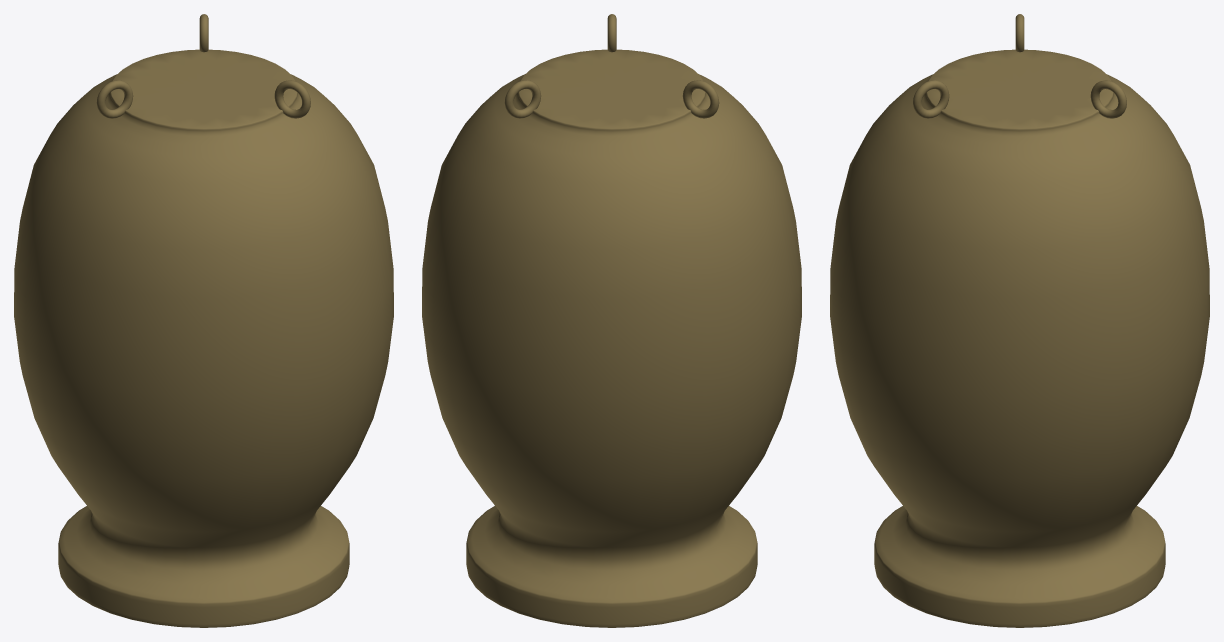
The model's file is 地动仪.fbx.
The picture shows the model from 3 angles, left to right: view 1: azimuth 30°, elevation 25°; view 2: azimuth 150°, elevation 25°; view 3: azimuth 270°, elevation 25°; orthographic projection.
Parts seen in each view (by area): view 1: Cylinder019, Torus002, Torus001; view 2: Cylinder019, Torus001, Torus003; view 3: Cylinder019, Torus003, Torus002.
Boxes of the visible parts, left/top/right/bottom form: Cylinder019: left=14, top=49, right=393, bottom=627; Torus002: left=274, top=80, right=310, bottom=118; Torus001: left=96, top=80, right=133, bottom=118; Cylinder019: left=422, top=49, right=801, bottom=627; Torus001: left=682, top=80, right=719, bottom=118; Torus003: left=504, top=80, right=541, bottom=118; Cylinder019: left=830, top=49, right=1209, bottom=627; Torus003: left=1090, top=80, right=1126, bottom=118; Torus002: left=913, top=80, right=949, bottom=118.
Bounding box in the file's own units: 242 × 356 × 242.
